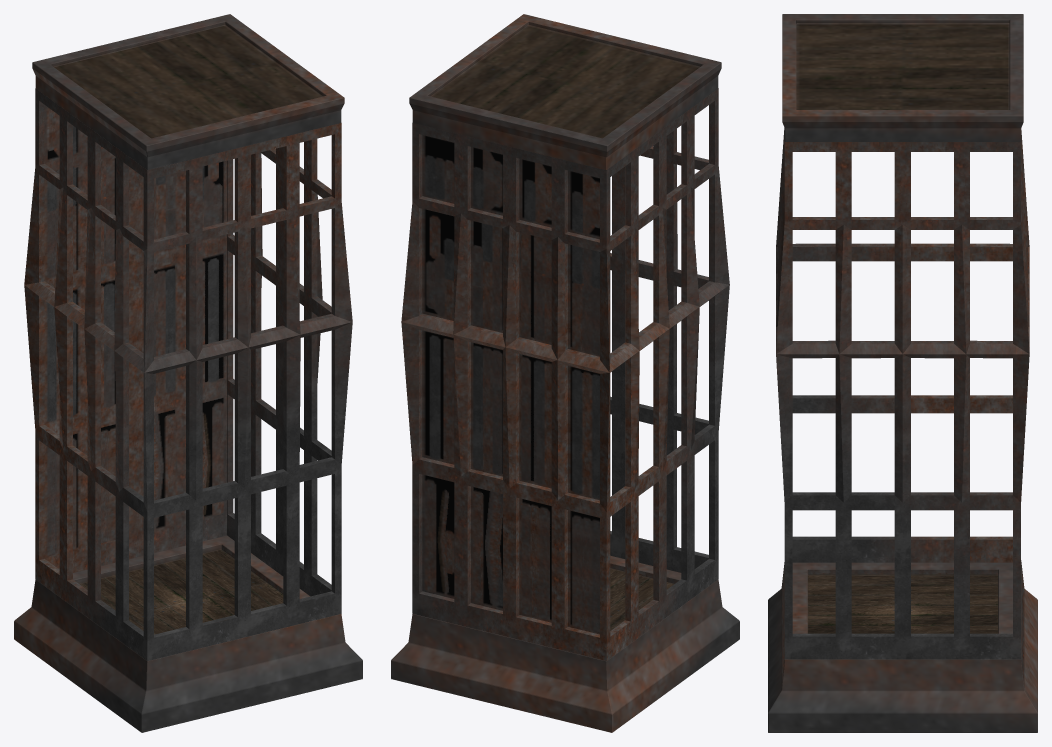
File: RustyCage_Outer.fbx
3 views of the same model, side by side, from view 1: azimuth 30°, elevation 25°; view 2: azimuth 150°, elevation 25°; view 3: azimuth 270°, elevation 25° (orthographic). The views are drawn at different scales.
Parts seen in each view (by area): view 1: Cube.001, Cube.003, Cube.004; view 2: Cube.001, Cube.004, Cube.003; view 3: Cube.001, Cube.003, Cube.004.
Boxes of the visible parts, x1=… form: Cube.001: x1=24, y1=88, x2=352, y2=660; Cube.003: x1=14, y1=535, x2=362, y2=732; Cube.004: x1=32, y1=14, x2=344, y2=169; Cube.001: x1=401, y1=88, x2=729, y2=660; Cube.004: x1=409, y1=14, x2=721, y2=169; Cube.003: x1=391, y1=555, x2=739, y2=732; Cube.001: x1=776, y1=128, x2=1029, y2=659; Cube.003: x1=768, y1=560, x2=1037, y2=732; Cube.004: x1=782, y1=14, x2=1023, y2=141.
Size of the model in its own units: 228 by 570 by 228.
